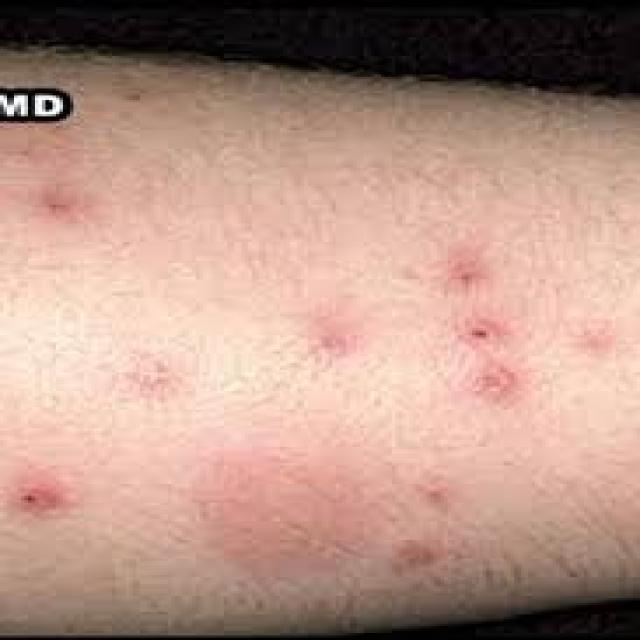kan emici bocekler: (188, 438, 422, 584), (278, 319, 368, 371), (31, 163, 89, 235), (119, 359, 188, 408), (433, 252, 504, 298), (550, 329, 621, 369), (23, 479, 81, 526), (448, 315, 502, 365), (469, 362, 519, 410)
